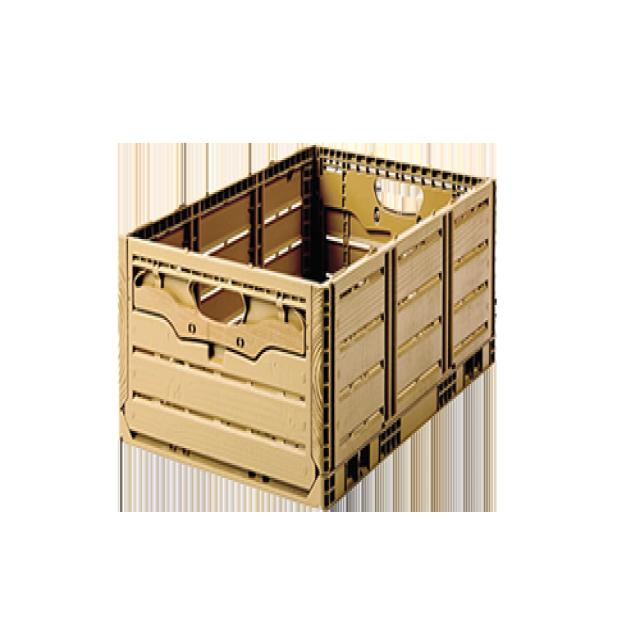basket: (119, 144, 496, 510)
